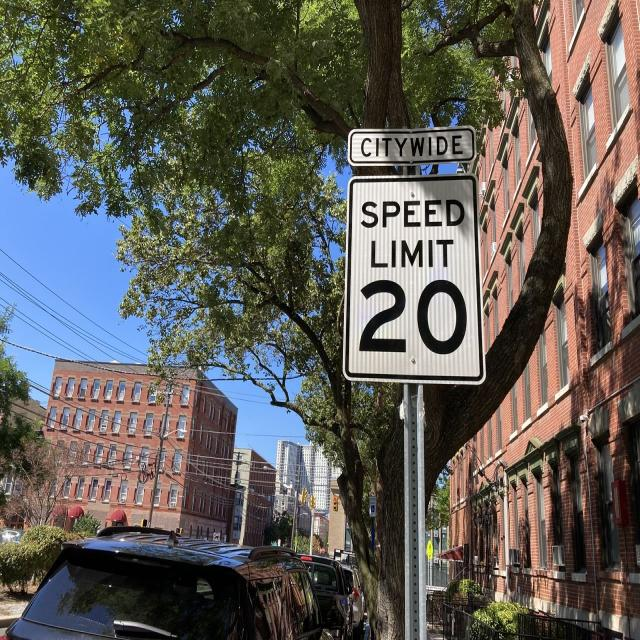speedLimit20: (346, 167, 484, 370)
